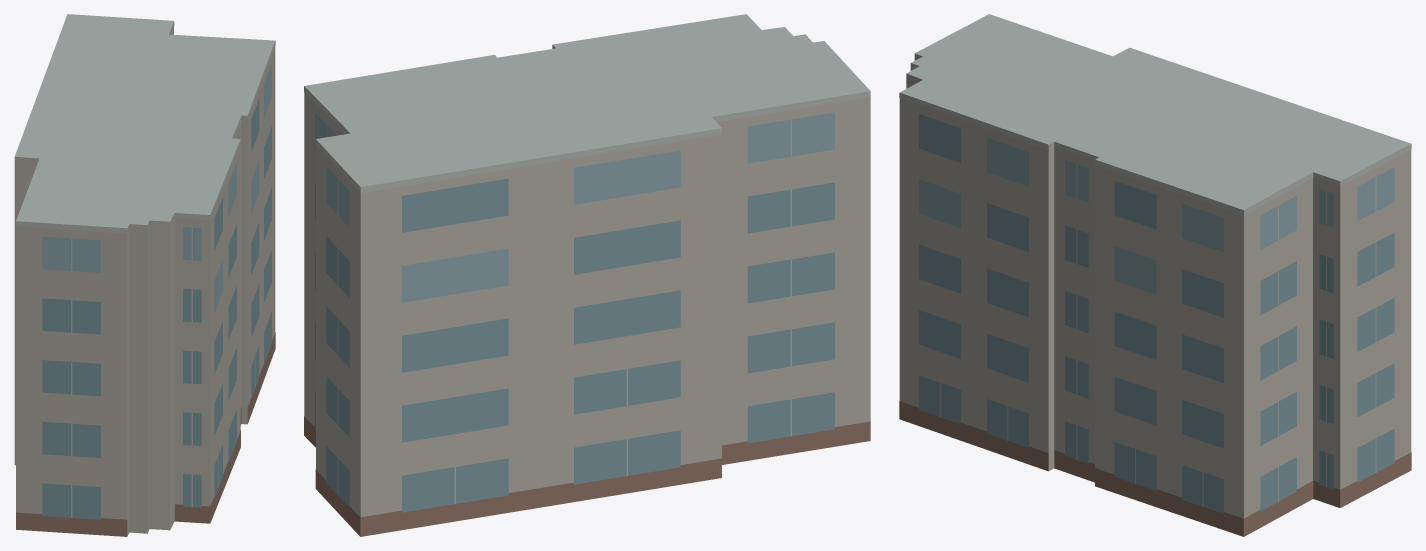
The model's file is survey-upis-32723293.glb.
3 views of the same model, side by side, from view 1: azimuth 30°, elevation 25°; view 2: azimuth 150°, elevation 25°; view 3: azimuth 270°, elevation 25° (orthographic). The views are drawn at different scales.
Visible parts, largest first — view 1: survey-upis-32723293.tmp; view 2: survey-upis-32723293.tmp; view 3: survey-upis-32723293.tmp.
Boxes of the visible parts, bbox=[...] form: survey-upis-32723293.tmp: bbox=[14, 14, 275, 536]; survey-upis-32723293.tmp: bbox=[304, 14, 870, 536]; survey-upis-32723293.tmp: bbox=[899, 14, 1411, 536].
Size of the model in its own units: 18.29 by 14.2 by 20.17.
